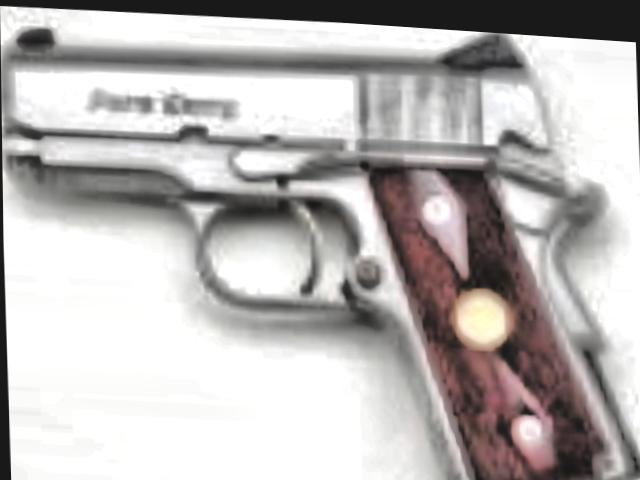pistol: (0, 2, 640, 480)
